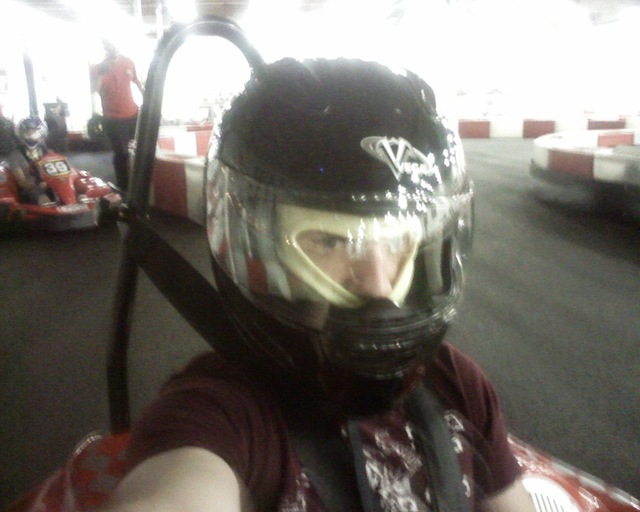helmet: (222, 72, 481, 358)
